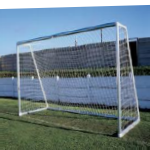goals: (14, 20, 141, 140)
